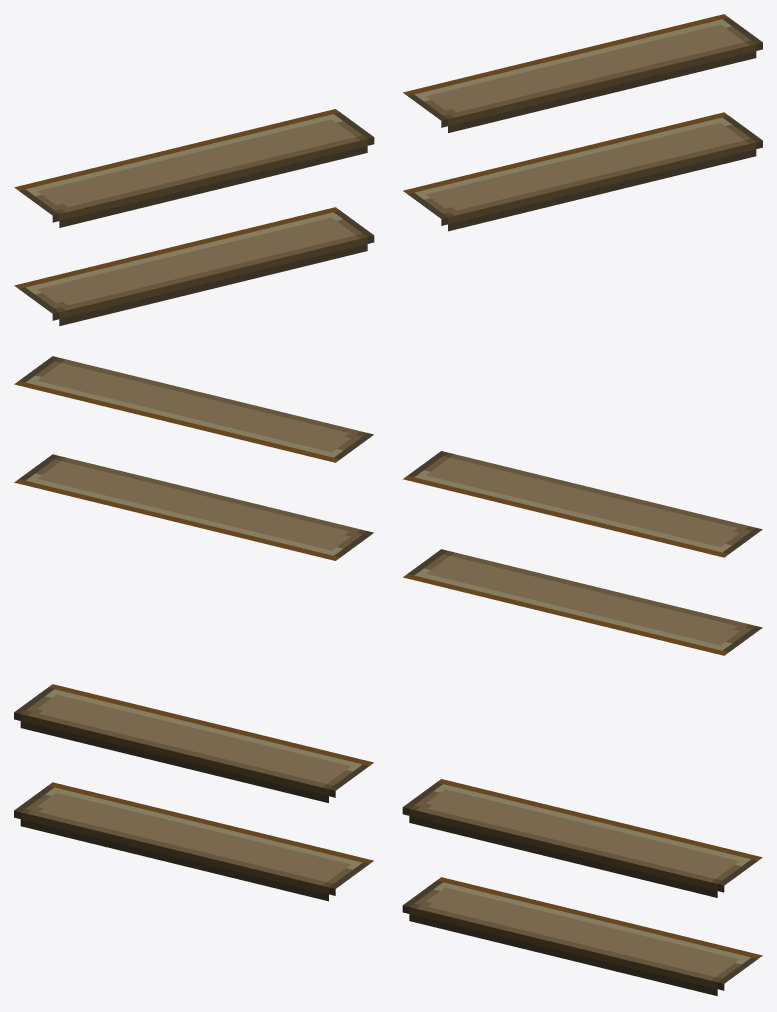
Rendered from shelf.gltf.
The picture shows the model from 3 angles, top to bottom: view 1: azimuth 30°, elevation 25°; view 2: azimuth 150°, elevation 25°; view 3: azimuth 330°, elevation 25°; orthographic projection.
Visible parts, largest first — view 1: shelf-col (×4); view 2: shelf-col (×4); view 3: shelf-col (×4).
Part boxes in pixels (x1=…): shelf-col (×4): x1=14, y1=14, x2=762, y2=326; shelf-col (×4): x1=14, y1=356, x2=762, y2=655; shelf-col (×4): x1=14, y1=684, x2=762, y2=996.
Bounding box in the file's own units: 6.62 × 1 × 0.625.
Materials: 1 (1 with a texture image).
